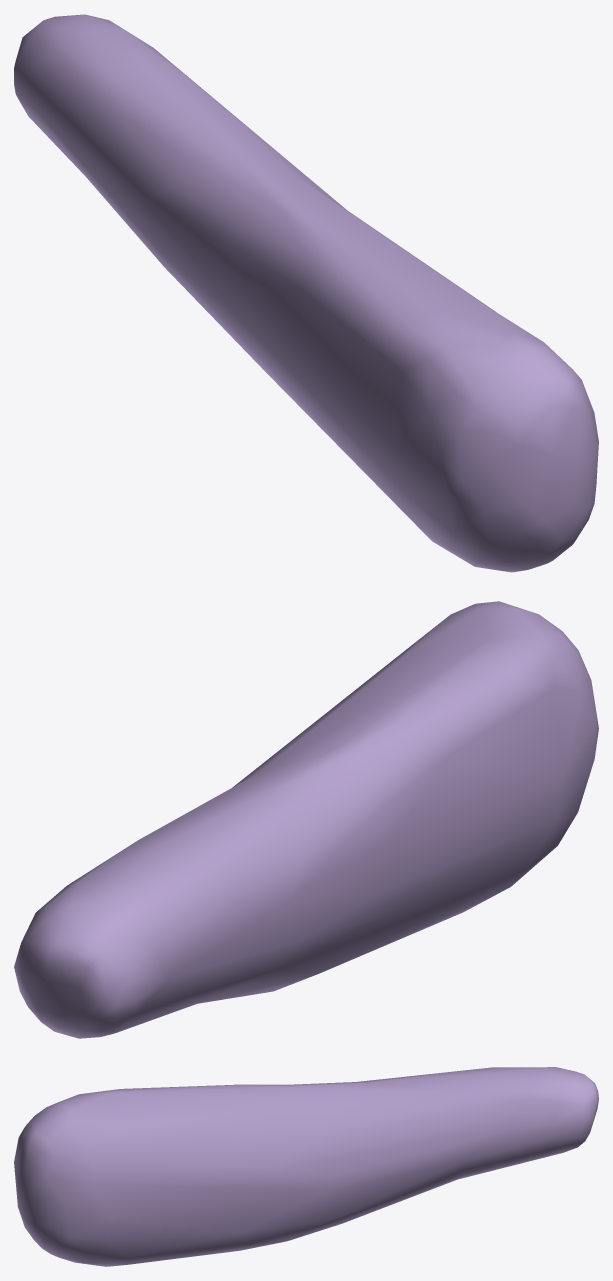
The picture shows the model from 3 angles, top to bottom: view 1: azimuth 30°, elevation 25°; view 2: azimuth 150°, elevation 25°; view 3: azimuth 270°, elevation 25°; orthographic projection. The views are drawn at different scales.
Parts seen in each view (by area): view 1: 右侧泪囊; view 2: 右侧泪囊; view 3: 右侧泪囊.
Part boxes in pixels (x1,y1,x2,y2): 右侧泪囊: [14, 14, 598, 572]; 右侧泪囊: [14, 601, 598, 1038]; 右侧泪囊: [14, 1067, 598, 1266].
Size of the model in its own units: 0.0059 by 0.00899 by 0.0271.
